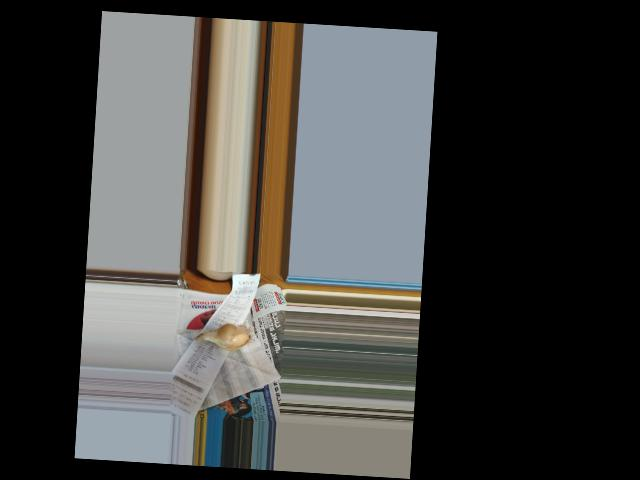onion: (199, 321, 252, 352)
